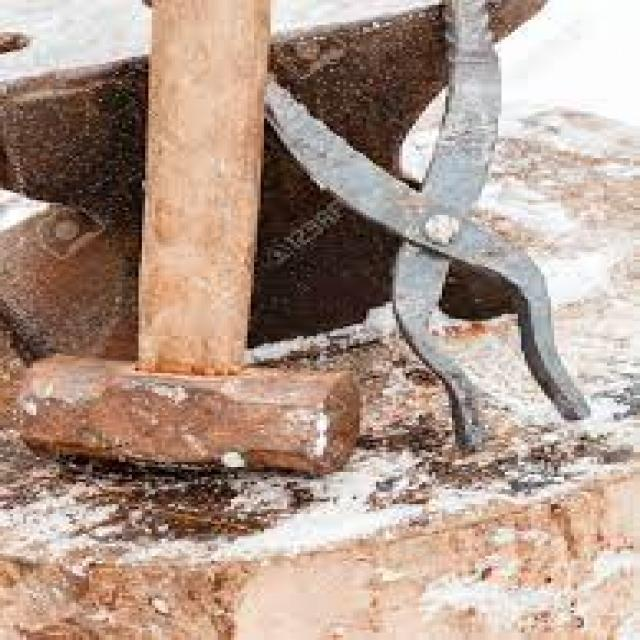hammer: (0, 0, 373, 487)
